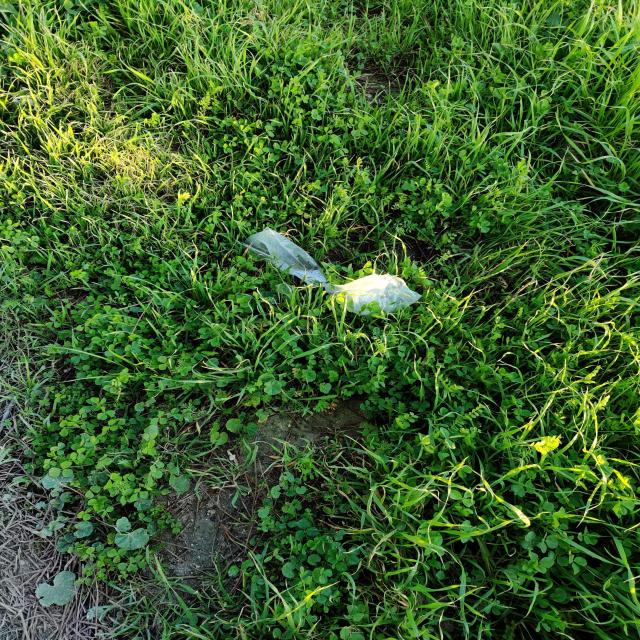litter: (241, 227, 423, 315)
